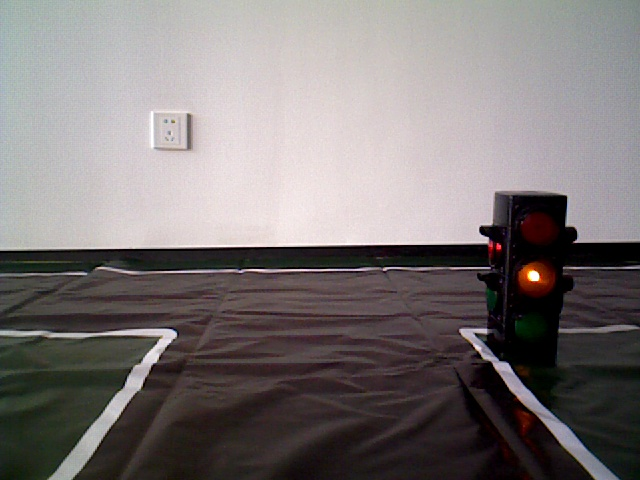yellow: (494, 189, 562, 348)
